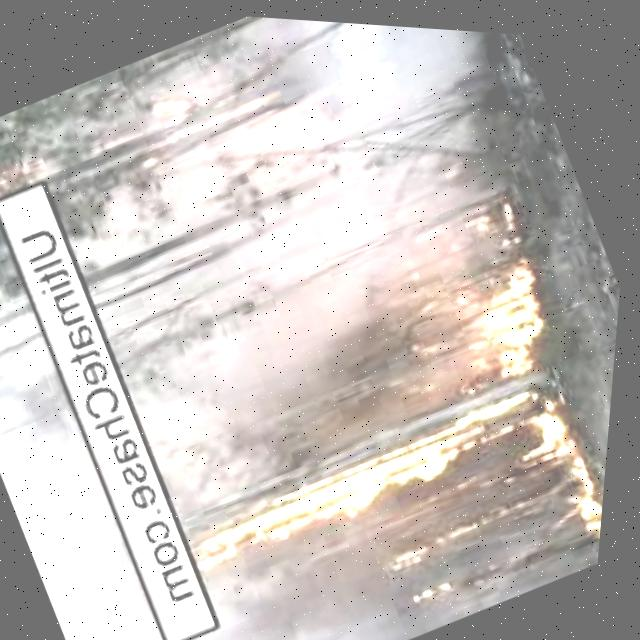Fire: (190, 384, 528, 590), (436, 249, 626, 570), (381, 491, 518, 584), (0, 110, 91, 231), (128, 77, 202, 138)
